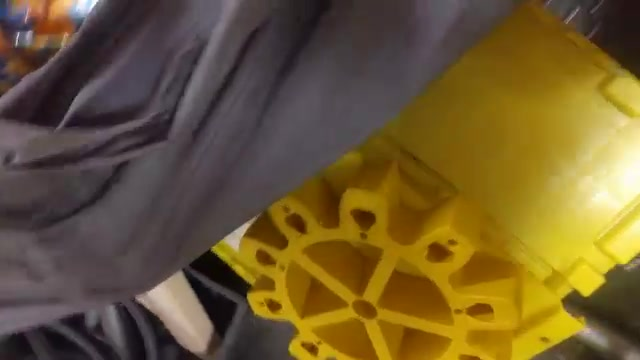gear: (228, 138, 523, 360)
